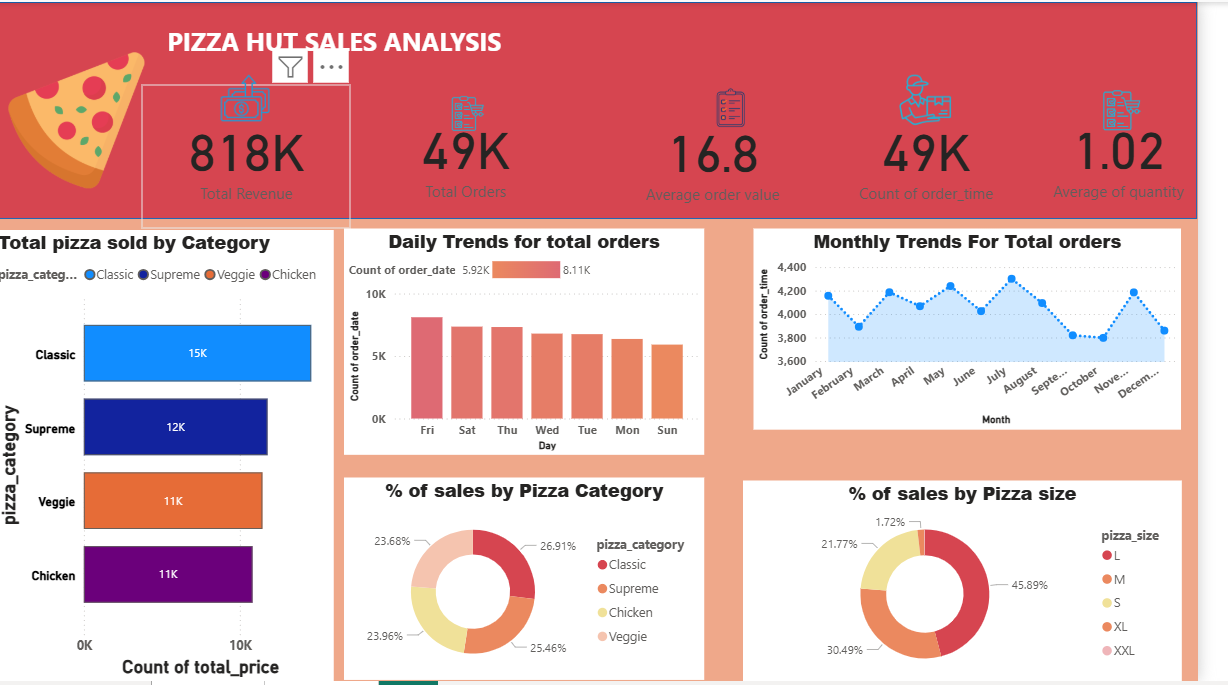

What the dashboard file says about the page in this screenshot:
{"tool":"powerbi","page":{"name":"Page 1","canvas":[1280,720],"ordinal":0},"visuals":[{"type":"group","id":"g1","title":"Group 1","box":[0,0,1280,240],"z":0},{"type":"shape","box":[0,0,1280,230],"z":0,"group":"g1"},{"type":"card","fields":{"Values":["Avg(pizza_sales.total_price)"]},"box":[660,88,212,152],"z":0,"group":"g2"},{"type":"image","box":[0,45,182.9,161.7],"z":1000,"group":"g1"},{"type":"image","box":[758.7,74,53,74],"z":1000,"group":"g2"},{"type":"image","box":[452,94,110,48],"z":1000},{"type":"textbox","box":[182.9,0,461.9,70],"z":2000,"group":"g1"},{"type":"card","fields":{"Values":["Sum(pizza_sales.total_price)"]},"box":[160,88,222,152],"z":2000},{"type":"image","box":[219.5,66.8,101.8,70],"z":3000},{"type":"card","fields":{"Values":["CountNonNull(pizza_sales.order_time)"]},"box":[392,82,226,158],"z":3000,"group":"g1"},{"type":"group","id":"g2","title":"Group 2","box":[660,74,212,166],"z":4000},{"type":"card","fields":{"Values":["CountNonNull(pizza_sales.order_time)"]},"box":[896,88,194,152],"z":4000,"group":"g1"},{"type":"image","box":[952.8,70,77.9,66.8],"z":5000},{"type":"card","fields":{"Values":["Avg(pizza_sales.quantity)"]},"box":[1114,82,166,158],"z":5000,"group":"g1"},{"type":"image","box":[1164,88,72,54],"z":6000},{"type":"stackedAreaChart","title":"Monthly Trends For Total orders","fields":{"Category":["pizza_sales.order_date.Variation.Date Hierarchy.Month"],"Y":["CountNonNull(pizza_sales.order_time)"],"Series":["pizza_sales.order_date.Variation.Date Hierarchy.Year"]},"box":[809.6,240.2,453.3,213.1],"z":7000},{"type":"donutChart","title":"% of sales by Pizza  Category","fields":{"Category":["pizza_sales.pizza_category"],"Y":["Sum(pizza_sales.total_price)"]},"box":[375.4,504.2,381.7,214.7],"z":8000},{"type":"donutChart","title":"% of sales by Pizza size","fields":{"Category":["pizza_sales.pizza_size"],"Y":["Sum(pizza_sales.total_price)"]},"box":[798.3,506.7,465,213.3],"z":9000},{"type":"barChart","title":"Total pizza sold by Category","fields":{"Category":["pizza_sales.pizza_category"],"Y":["CountNonNull(pizza_sales.total_price)"],"Series":["pizza_sales.pizza_category"]},"box":[3.2,241.8,361.1,478.8],"z":10000},{"type":"columnChart","title":"Daily Trends for total orders","fields":{"Category":["pizza_sales.Day"],"Y":["CountNonNull(pizza_sales.order_date)"]},"box":[375.4,240.2,381.7,240.2],"z":11000}]}

Visuals, with their boxes in screenshot pixels (x1, y1, x2, y2), scaled from the page's 1280x720 canvas onto the 1228x685 screenshot:
"Group 1" group: detection(0, 0, 1227, 228)
shape: detection(0, 0, 1227, 219)
card - Avg(pizza_sales.total_price): detection(633, 84, 837, 228)
image: detection(0, 43, 175, 197)
image: detection(728, 70, 779, 141)
image: detection(434, 89, 539, 135)
textbox: detection(175, 0, 619, 67)
card - Sum(pizza_sales.total_price): detection(154, 84, 366, 228)
image: detection(211, 64, 308, 130)
card - CountNonNull(pizza_sales.order_time): detection(376, 78, 593, 228)
"Group 2" group: detection(633, 70, 837, 228)
card - CountNonNull(pizza_sales.order_time): detection(860, 84, 1046, 228)
image: detection(914, 67, 989, 130)
card - Avg(pizza_sales.quantity): detection(1069, 78, 1227, 228)
image: detection(1117, 84, 1186, 135)
"Monthly Trends For Total orders" stackedAreaChart: detection(777, 229, 1212, 431)
"% of sales by Pizza  Category" donutChart: detection(360, 480, 726, 684)
"% of sales by Pizza size" donutChart: detection(766, 482, 1212, 684)
"Total pizza sold by Category" barChart: detection(3, 230, 350, 684)
"Daily Trends for total orders" columnChart: detection(360, 229, 726, 457)
